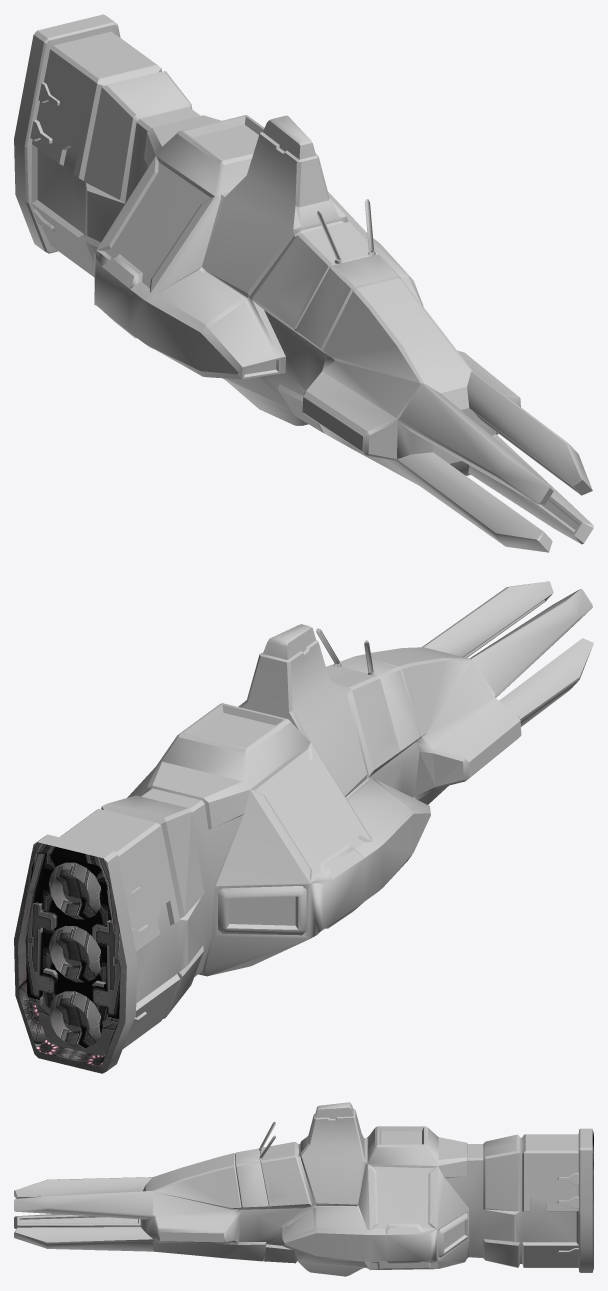
File: ioncannonfrigate.obj
3 renders of one model, top to bottom at view 1: azimuth 30°, elevation 25°; view 2: azimuth 150°, elevation 25°; view 3: azimuth 270°, elevation 25°, orthographic. The views are drawn at different scales.
Parts seen in each view (by area): view 1: Tai_IonCannonFrigate, Tai_IonCannonFrigateBadge; view 2: Tai_IonCannonFrigate, Tai_IonCannonFrigateEngine, Tai_IonCannonFrigateBadge; view 3: Tai_IonCannonFrigate, Tai_IonCannonFrigateBadge, Tai_IonCannonFrigateEngine.
Part boxes in pixels (x1,y1,x2,y2): Tai_IonCannonFrigate: (14, 14, 593, 552); Tai_IonCannonFrigateBadge: (271, 253, 317, 314); Tai_IonCannonFrigate: (36, 581, 593, 1071); Tai_IonCannonFrigateEngine: (14, 842, 126, 1073); Tai_IonCannonFrigateBadge: (360, 695, 394, 751); Tai_IonCannonFrigate: (14, 1102, 592, 1276); Tai_IonCannonFrigateBadge: (268, 1169, 296, 1197); Tai_IonCannonFrigateEngine: (592, 1130, 593, 1271).
Bounding box in the file's own units: 37.58 × 43.69 × 138.
